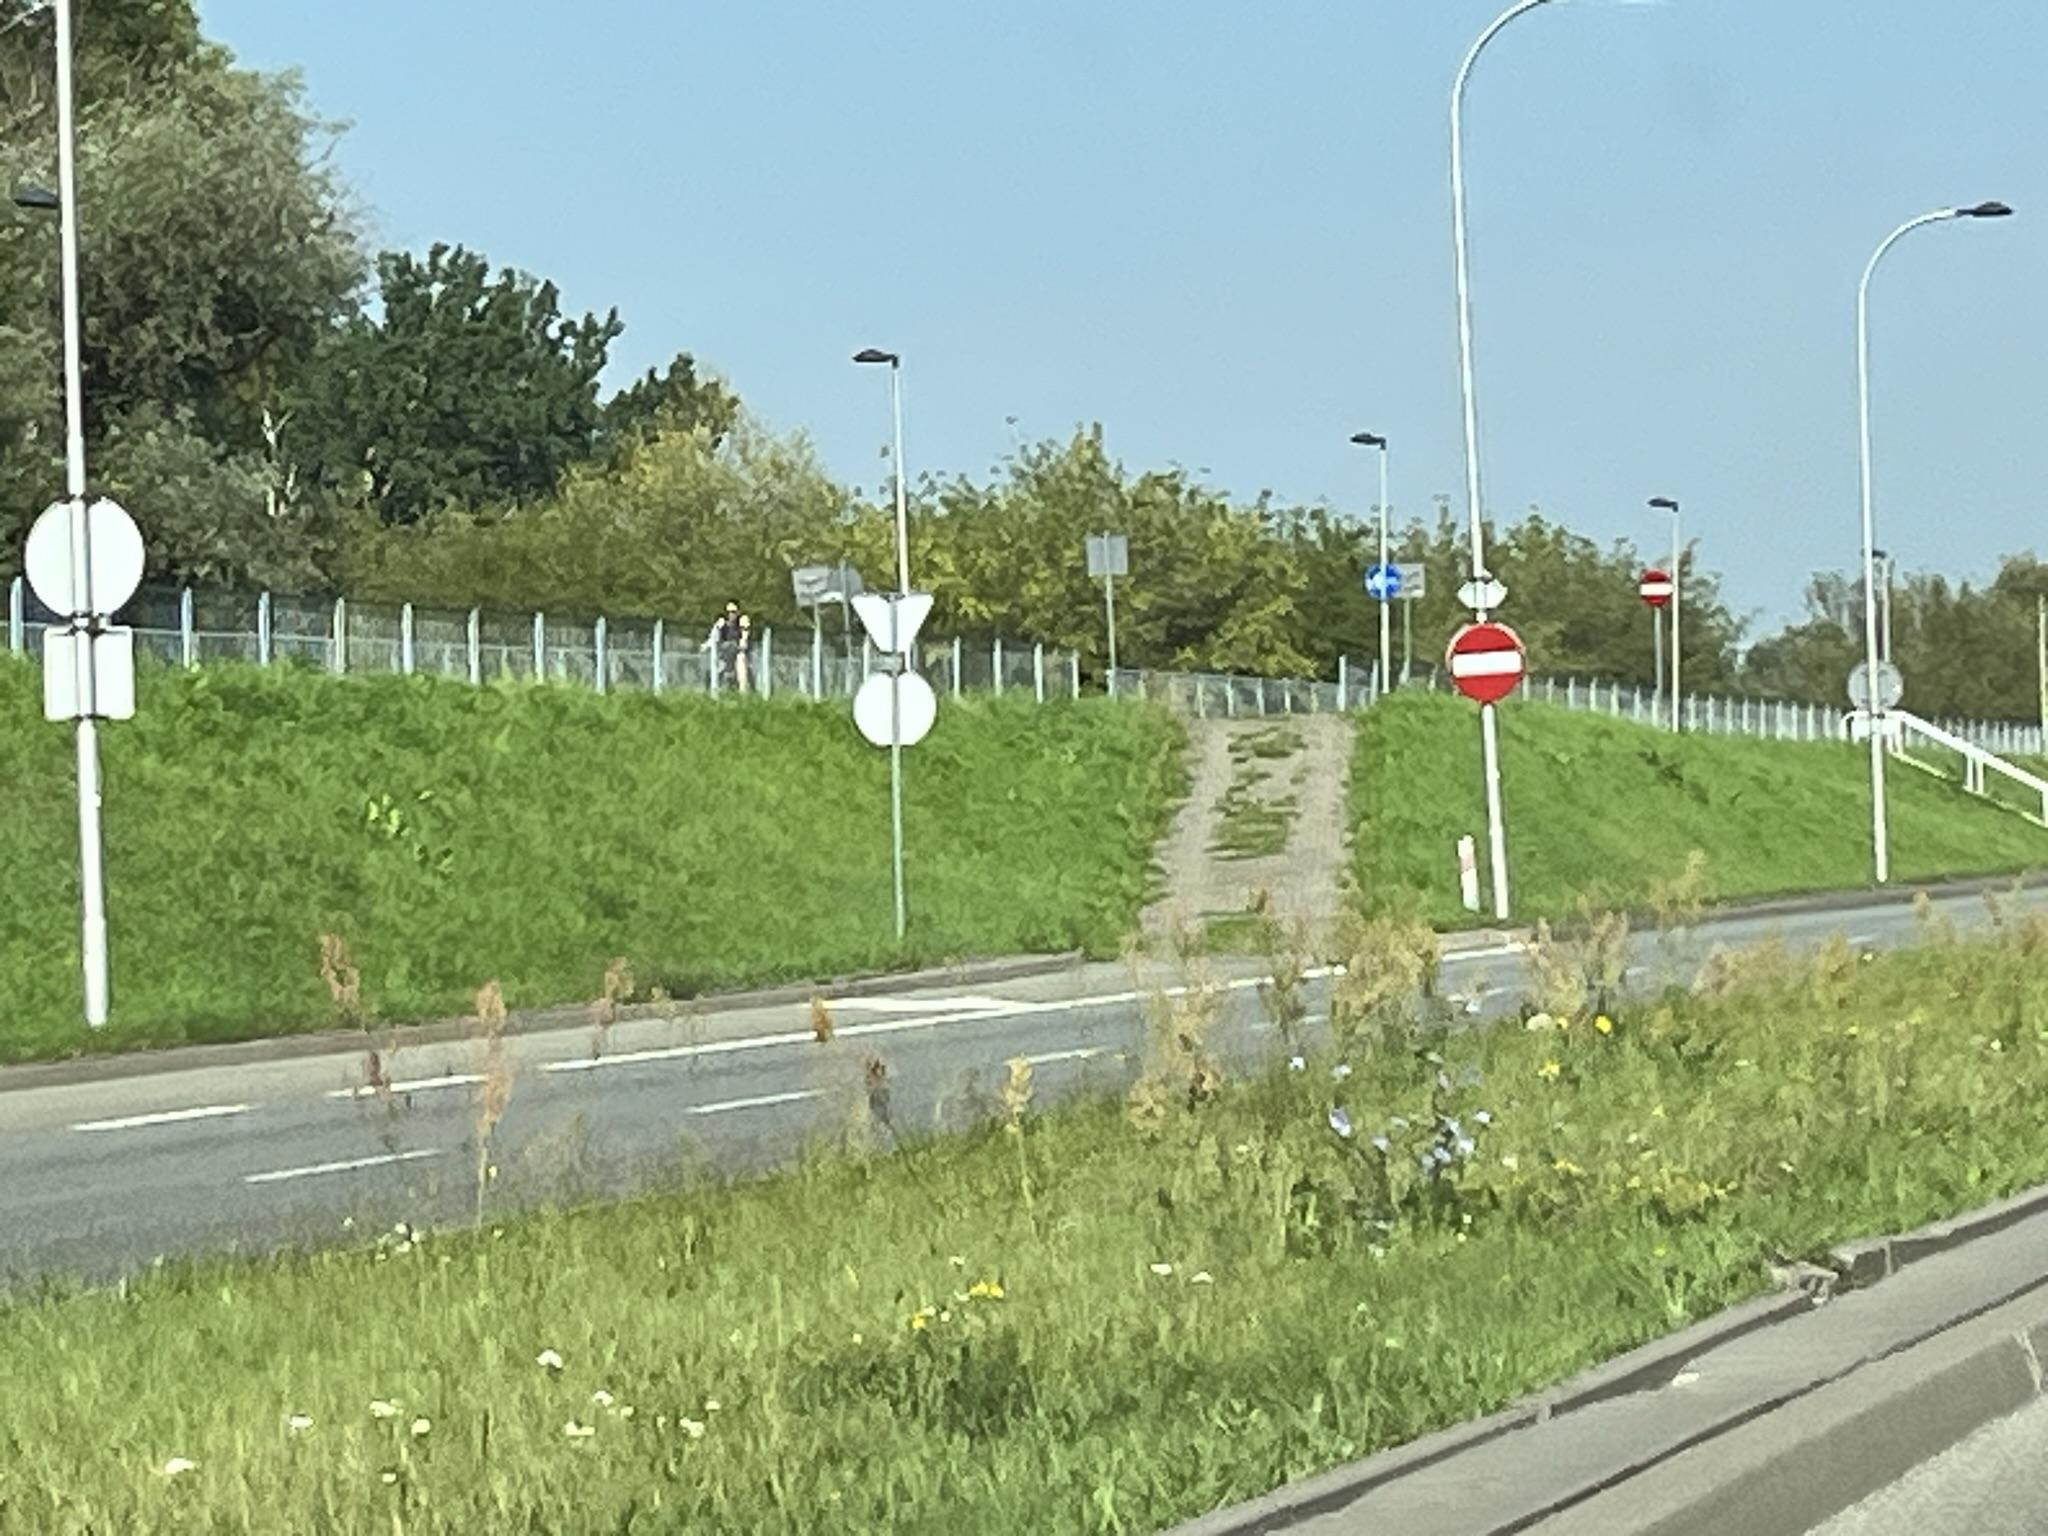mandatory: (1366, 561, 1401, 602)
prohibitory: (1443, 623, 1529, 707), (1642, 570, 1675, 610)
